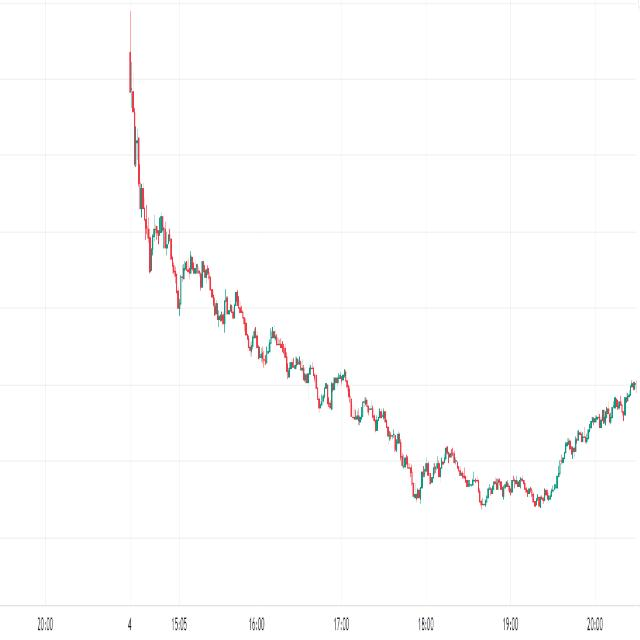Channel-down: (139, 184, 484, 559)
